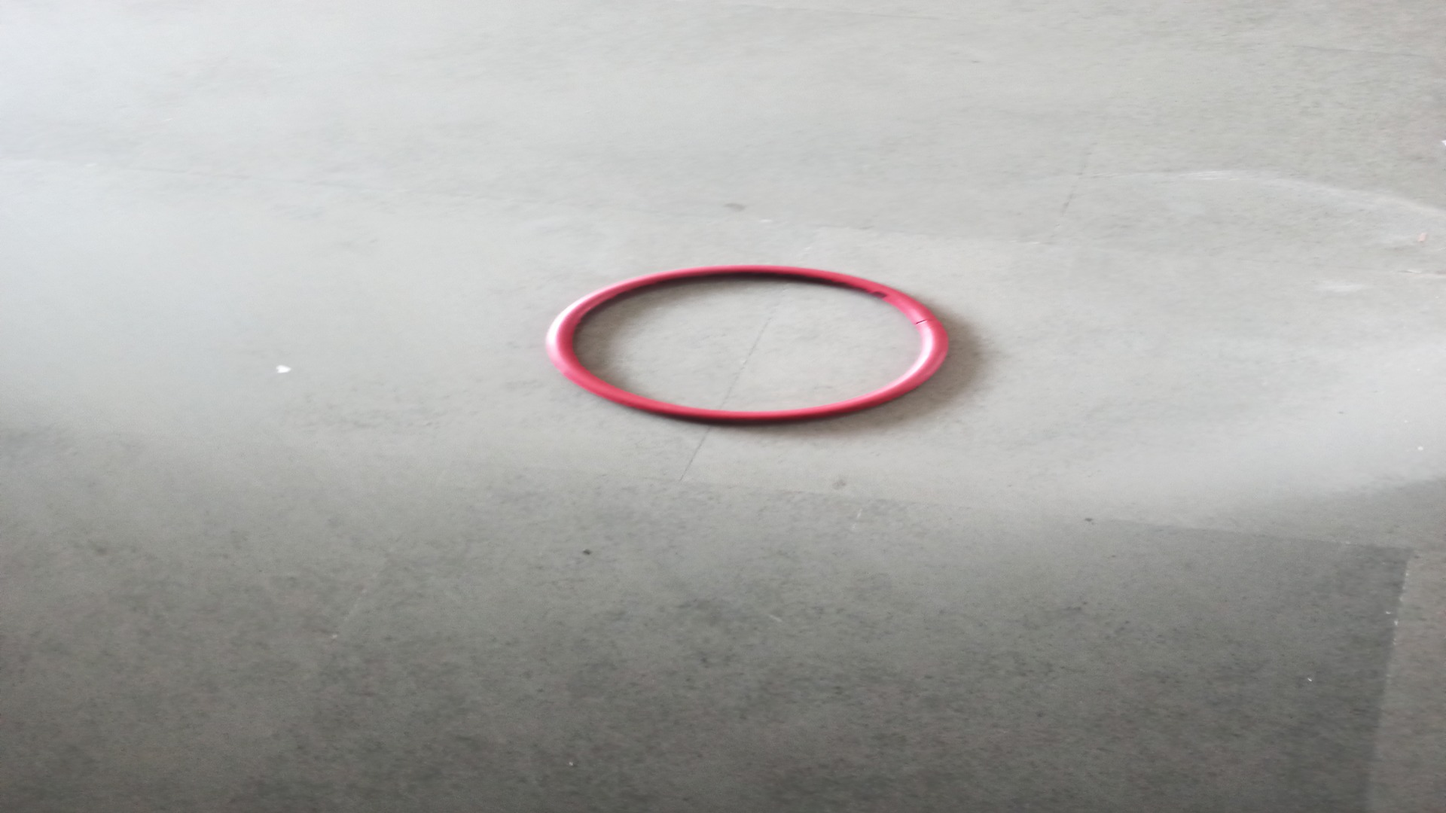Red ring: (544, 263, 952, 424)
